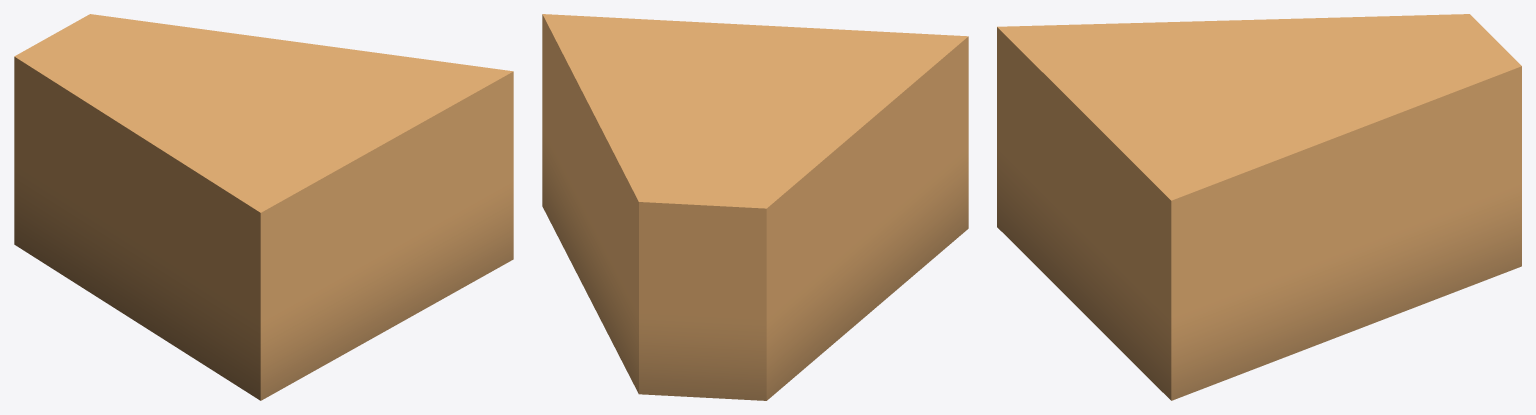
Rendered from PlatTri01.001.glb.
The picture shows the model from 3 angles, left to right: view 1: azimuth 30°, elevation 25°; view 2: azimuth 150°, elevation 25°; view 3: azimuth 270°, elevation 25°; orthographic projection. The views are drawn at different scales.
Visible parts, largest first — view 1: PlatTri01.001; view 2: PlatTri01.001; view 3: PlatTri01.001.
Boxes of the visible parts, x1,y1,x2,y2 form: PlatTri01.001: (14,14,513,400); PlatTri01.001: (542,14,968,400); PlatTri01.001: (997,14,1521,400).
Size of what is drawn, in the model's own units: 2.31 by 1.15 by 2.74.
Materials: 1 (1 with a texture image).
